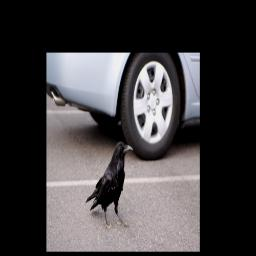Crow: (85, 139, 133, 228)
